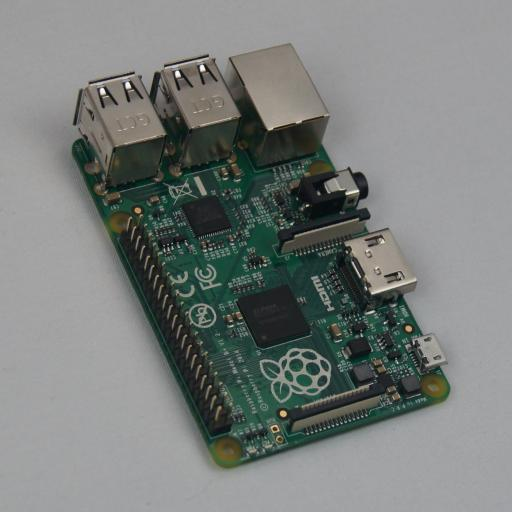Raspberry Pi 1 B-: (71, 54, 450, 468)
